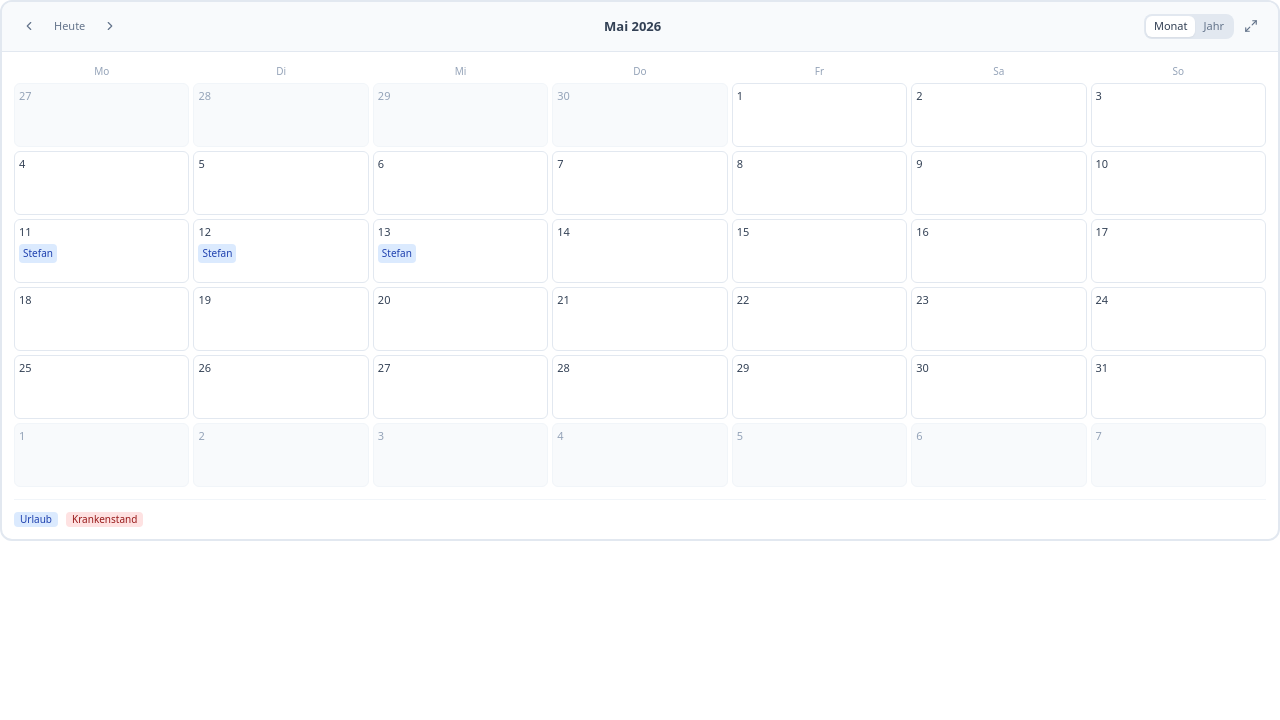
it: LeaveCalendar › opens the day-detail modal when a cell is clicked
Step 1. Click the button with test id "cal-cell-2026-05-12" → (281, 250), box [193,218,369,282]
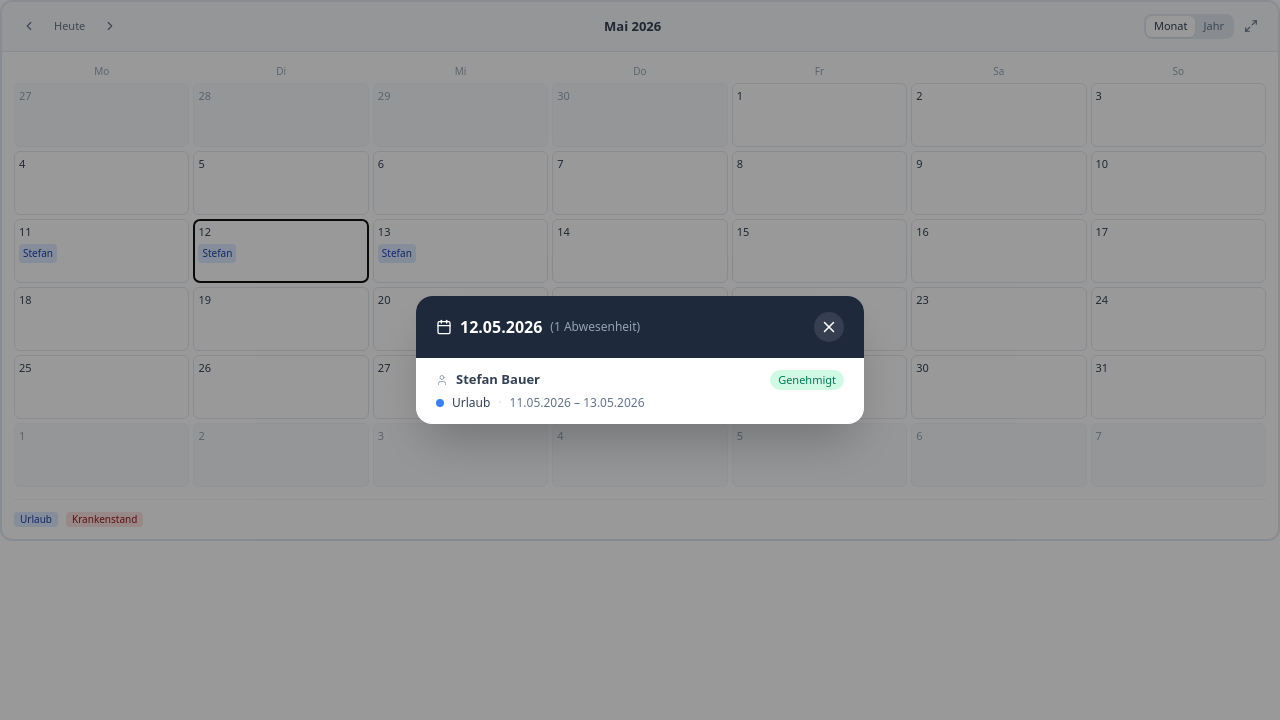
Expected: the text "12.05.2026" is shown, [460,315,542,339]
Expected: the text "(1 Abwesenheit)" is shown, [550,318,640,336]
